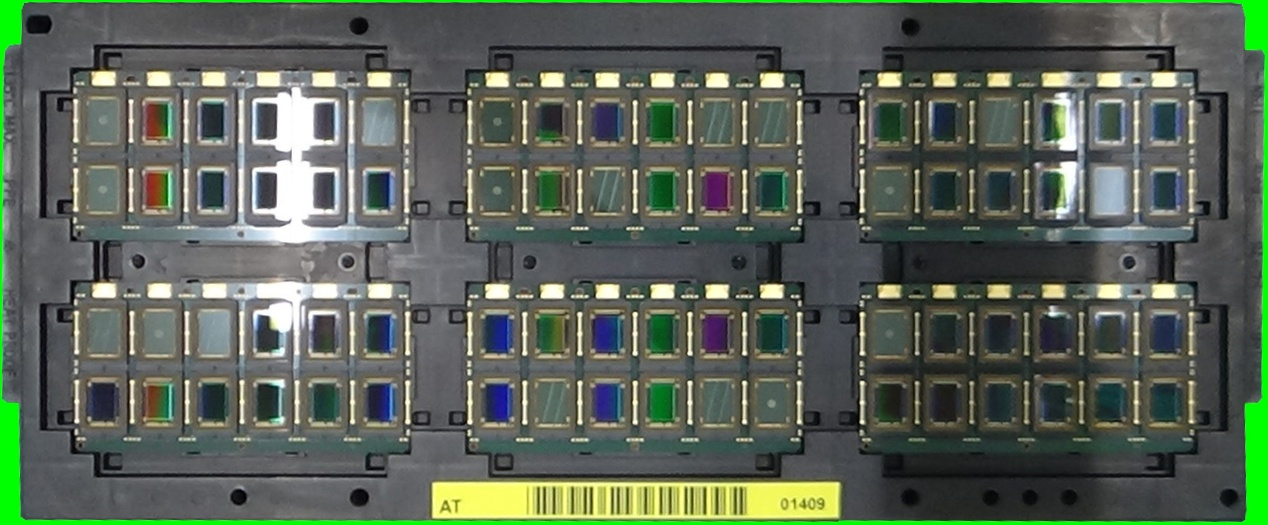Bad_mark_from_BMS_mold: (354, 86, 404, 153), (580, 160, 631, 221), (693, 371, 741, 433), (748, 89, 796, 150), (527, 372, 575, 433), (694, 90, 741, 151), (977, 90, 1023, 151)
Bad_mark_from_Maker: (76, 159, 128, 221), (473, 89, 521, 154), (866, 302, 914, 363), (80, 87, 126, 150), (865, 161, 914, 220), (474, 160, 522, 219), (750, 372, 797, 430), (139, 299, 182, 358)
